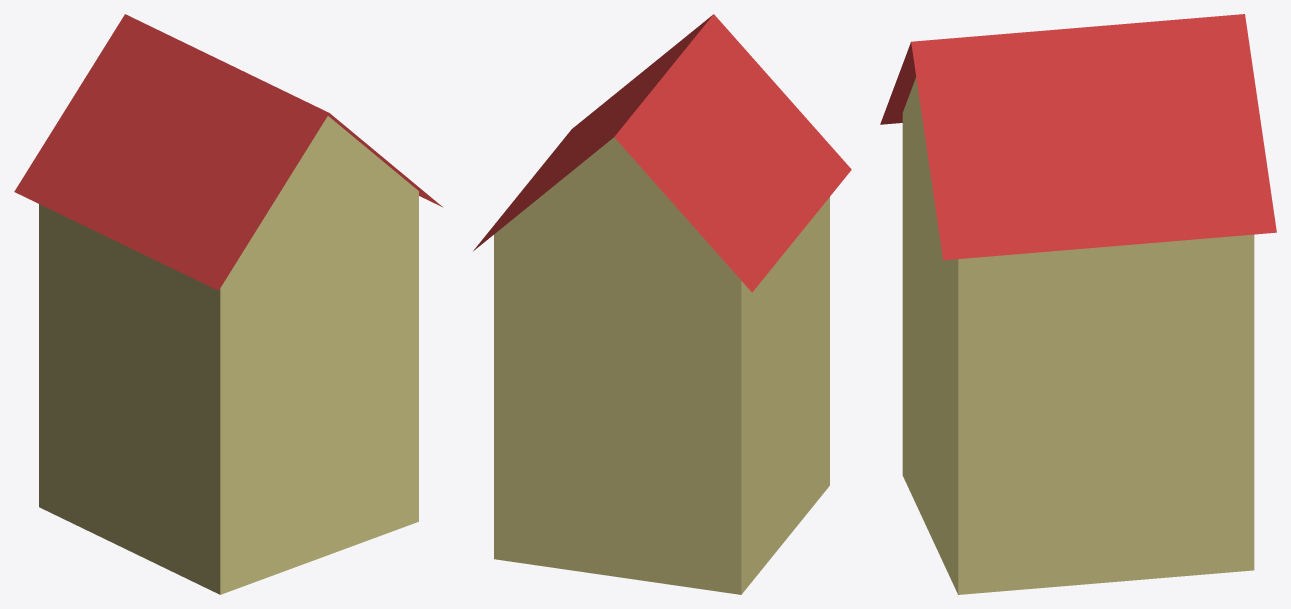
The picture shows the model from 3 angles, left to right: view 1: azimuth 30°, elevation 25°; view 2: azimuth 150°, elevation 25°; view 3: azimuth 270°, elevation 25°; orthographic projection. The views are drawn at different scales.
Size of the model in its own units: 10.08 by 10.36 by 14.22.
